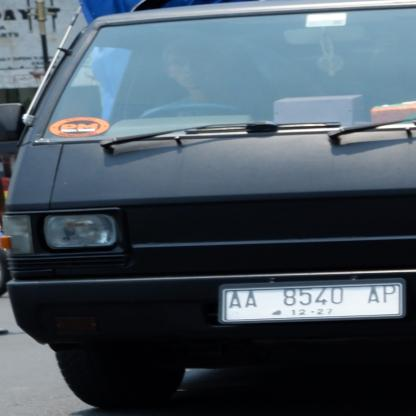Plat-Nomor: (212, 279, 410, 325)
